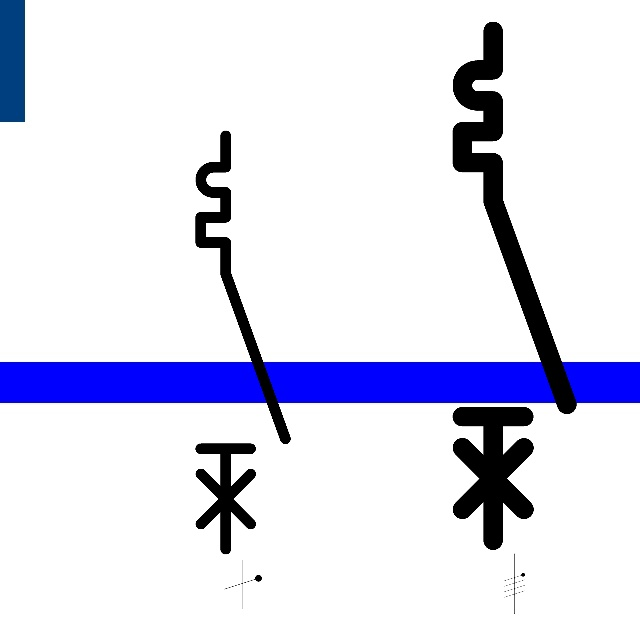interruptor_termomagnetico: (449, 18, 580, 553), (190, 125, 296, 559)
